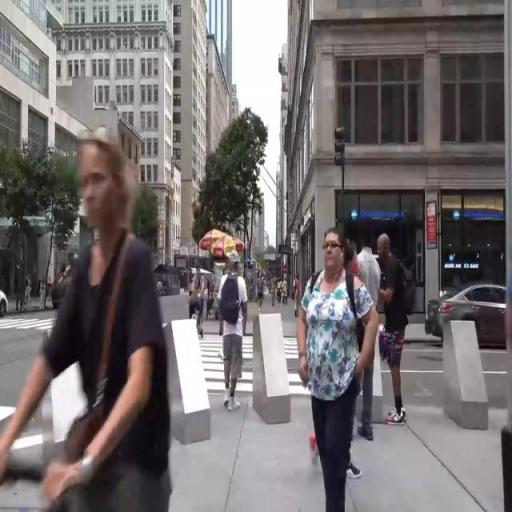person: (19, 138, 192, 512), (296, 230, 368, 512), (373, 228, 424, 437), (220, 249, 264, 419), (355, 232, 384, 451), (191, 263, 207, 342), (294, 274, 303, 319), (273, 273, 280, 311), (283, 274, 289, 308), (279, 277, 284, 306)
